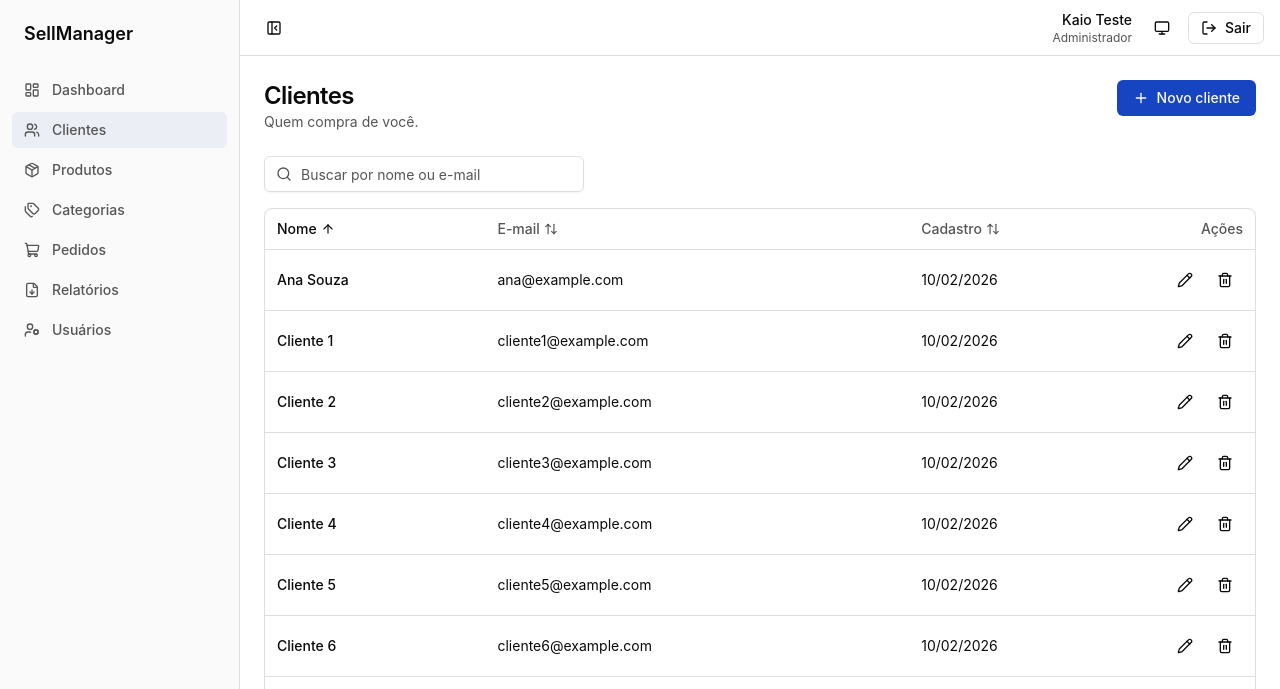
Clientes › exclui após confirmar e explica a recusa quando há pedidos
Click the button named "Excluir Cliente 1". click: [1225, 340]
box: [1207,322,1243,358]
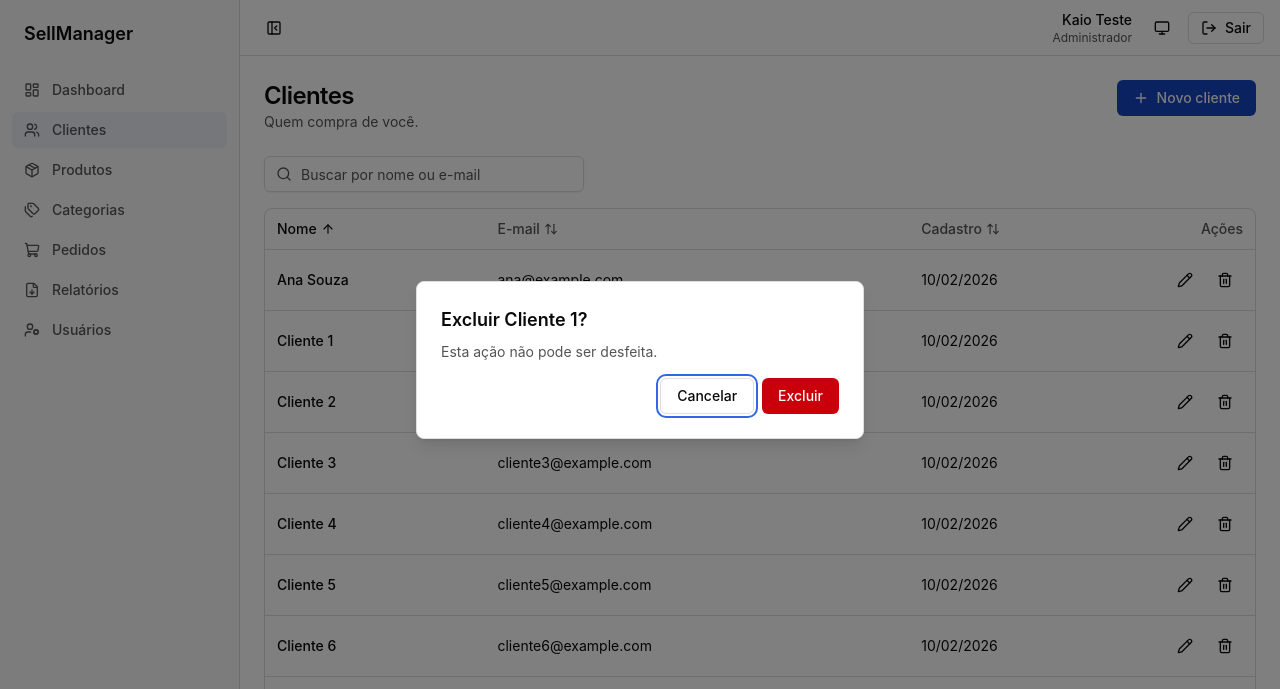
Click the button "Excluir". click: [801, 396]
box: [762,378,839,414]
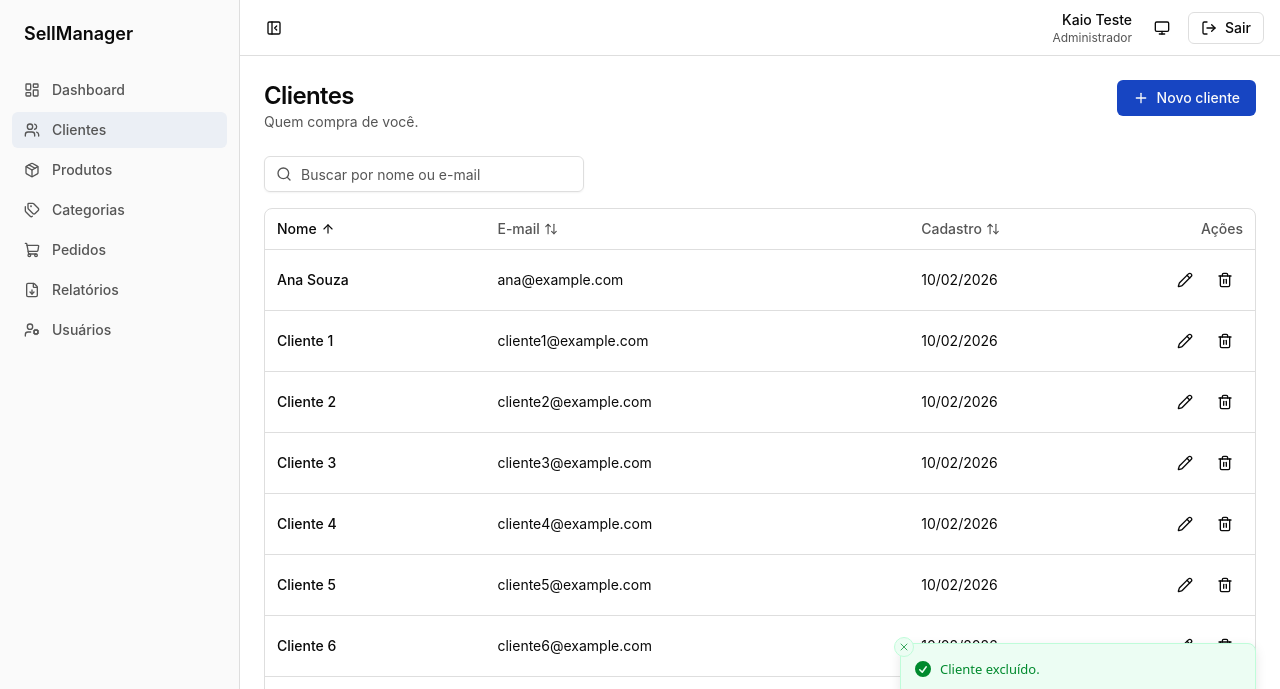
Result: the text "Cliente excluído." is shown at [940,660,1040,679]
Click the button named "Excluir Ana Souza". click: [1225, 280]
box: [1207,262,1243,298]
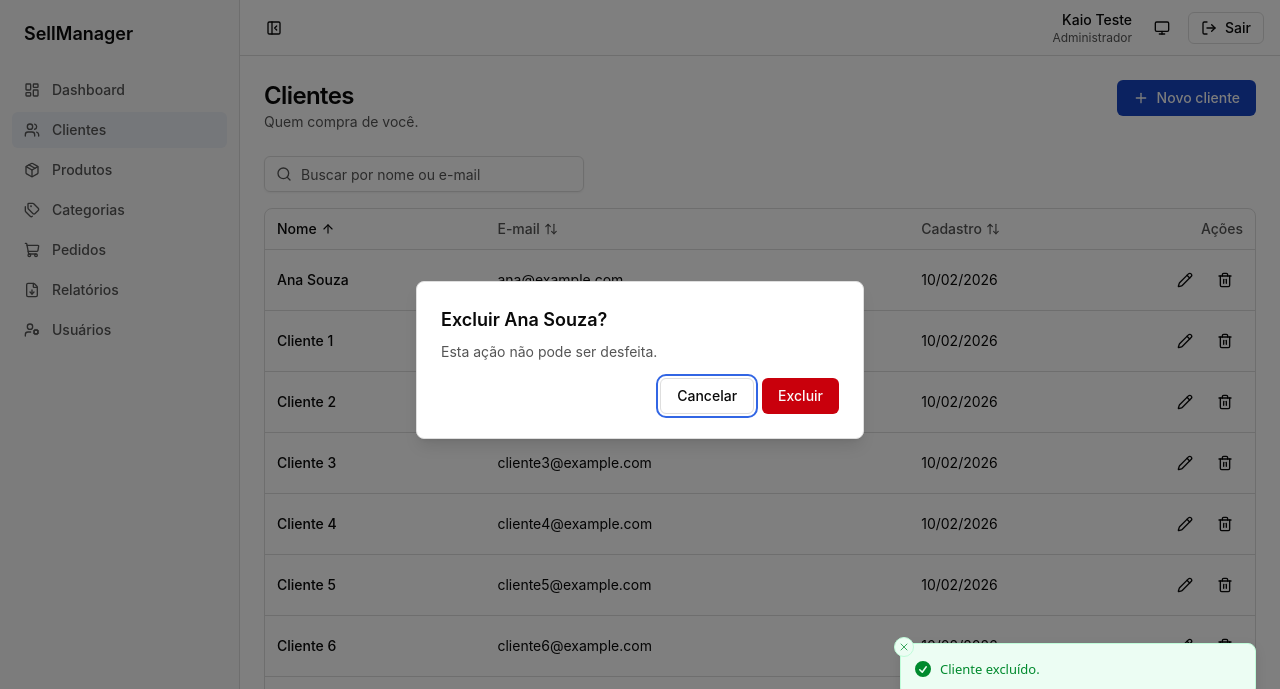
Click the button "Excluir". click: [801, 396]
box: [762,378,839,414]
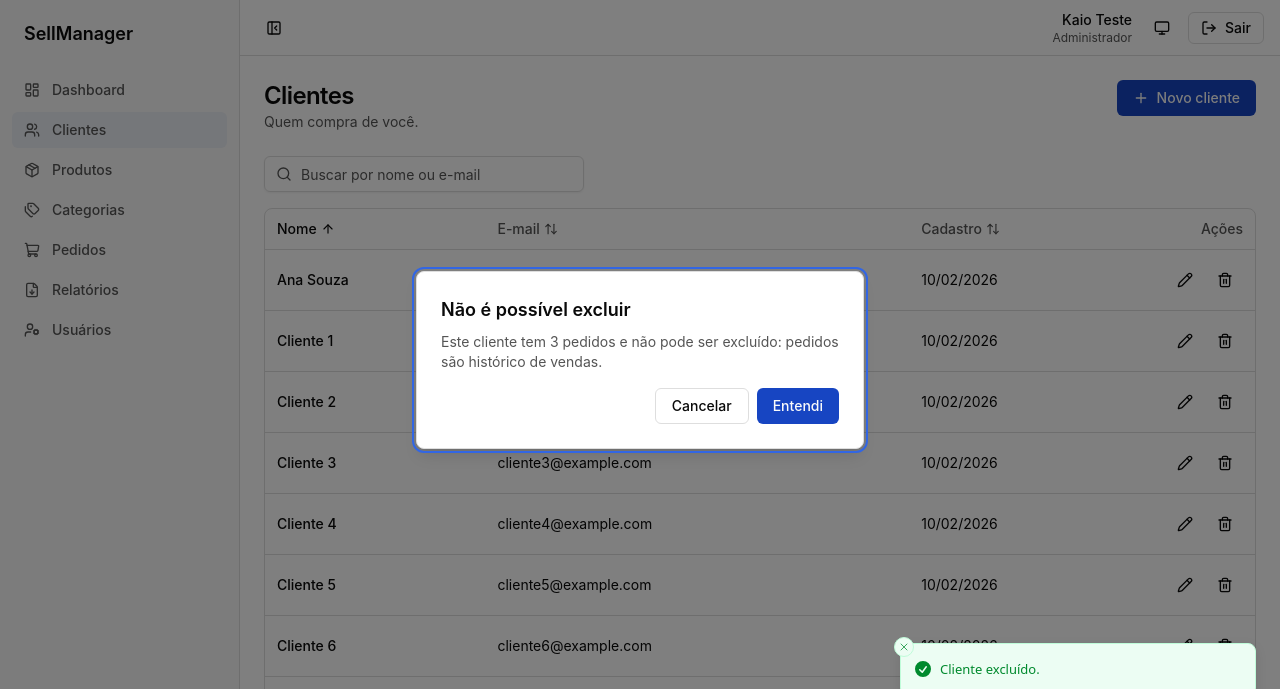
Result: the text "tem 3 pedidos e não pode ser excluído" is shown at [441,333,839,370]
Result: the dialog "Não é possível excluir" is shown at [416,271,864,449]
